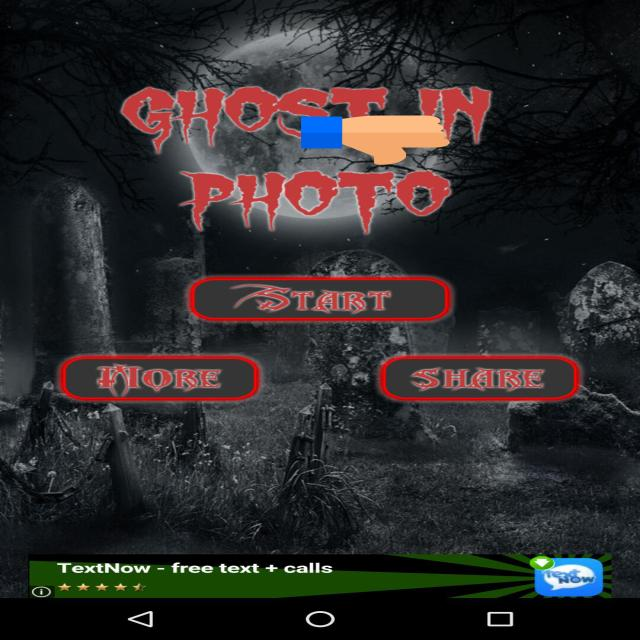obstruction: (301, 114, 450, 166)
